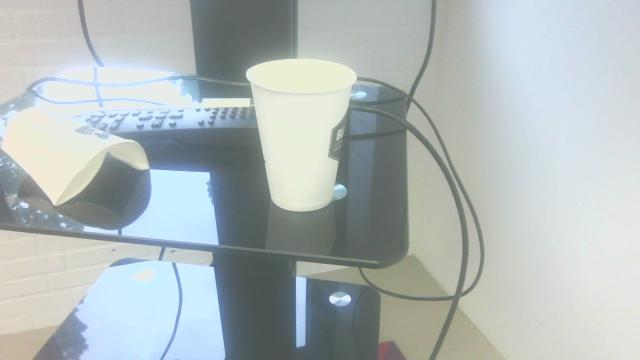cup: (240, 50, 363, 219), (1, 104, 151, 213)
